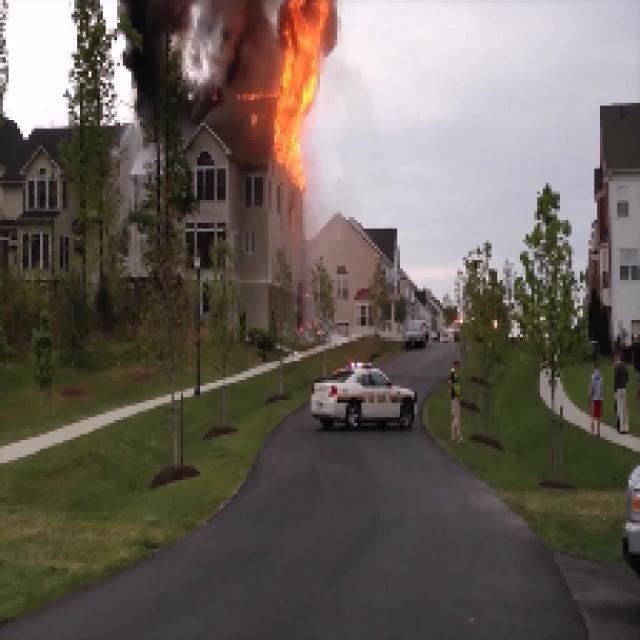Fire: (278, 22, 316, 176)
Smoke: (124, 2, 204, 121)
